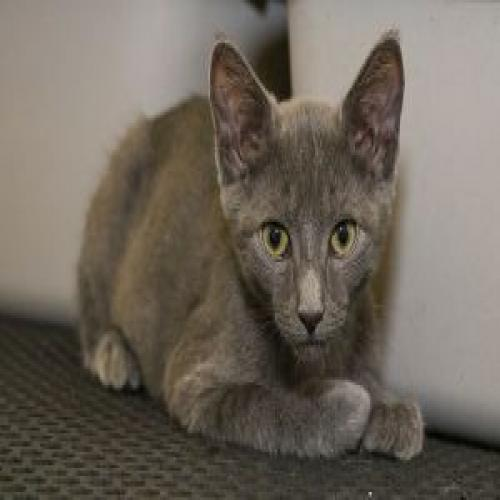rblue: (207, 16, 411, 377)
